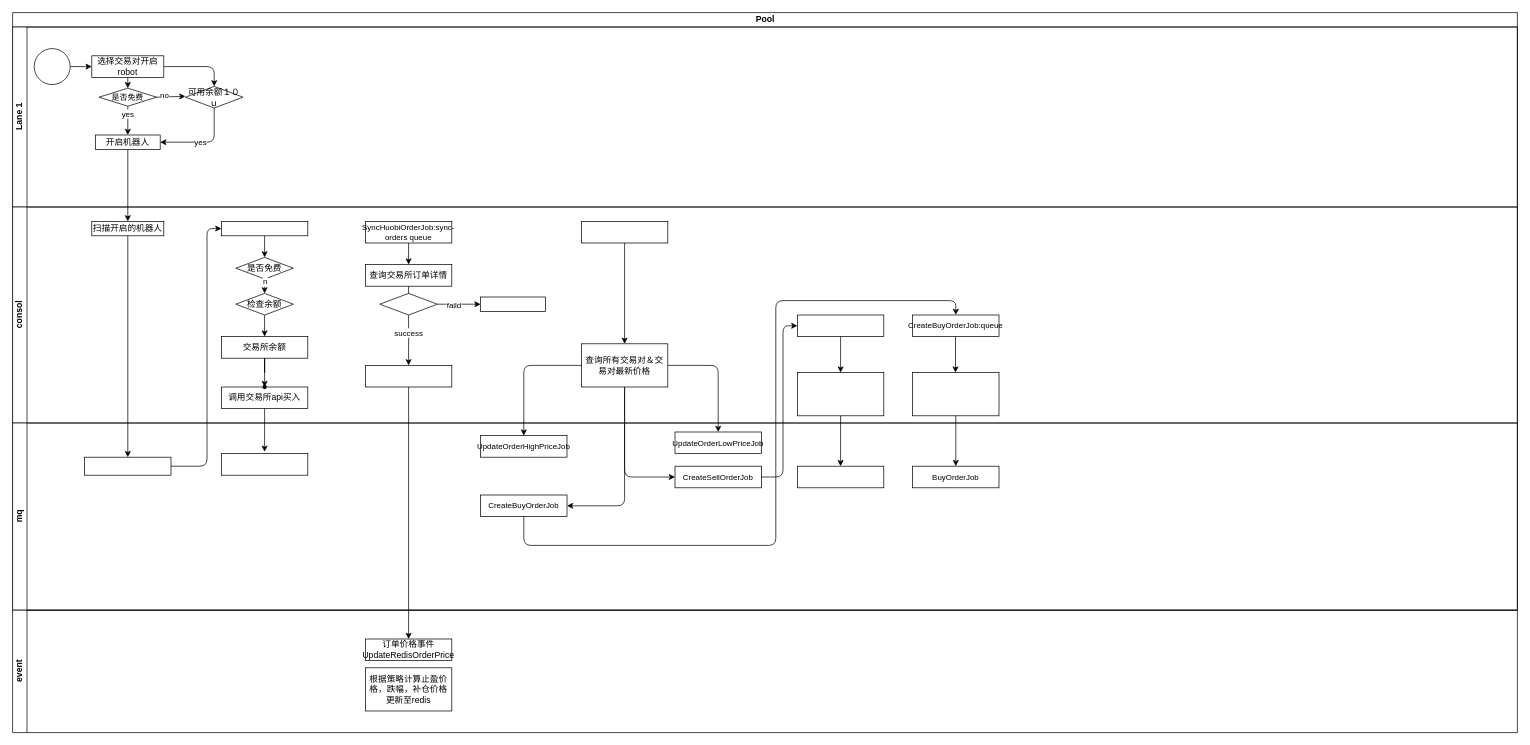
Some shapes in this 1530 by 745 pixel diagram are drawn without their labels. The centre of each missing label's shape, as x and y in pixels:
CreateSellOrderJob：queue: point (840, 325)
RobotJob: point (127, 465)
SellOrderJob: point (840, 476)
SettleHuoBiOrder/处理订单: point (624, 232)
SyncHuobiOrderJob: point (264, 464)
交易状态: point (408, 304)
关闭robot: point (512, 303)
查询redis当前交易对订单价格大于当前价格订单丢入队列，删除redis 订单: point (840, 394)
查询redis当前交易对订单价格小于当前价格订单丢入队列，删除redis 订单: point (955, 394)
消费Robot Queue: point (264, 228)
生成订单数据: point (408, 376)
用户: point (51, 66)
